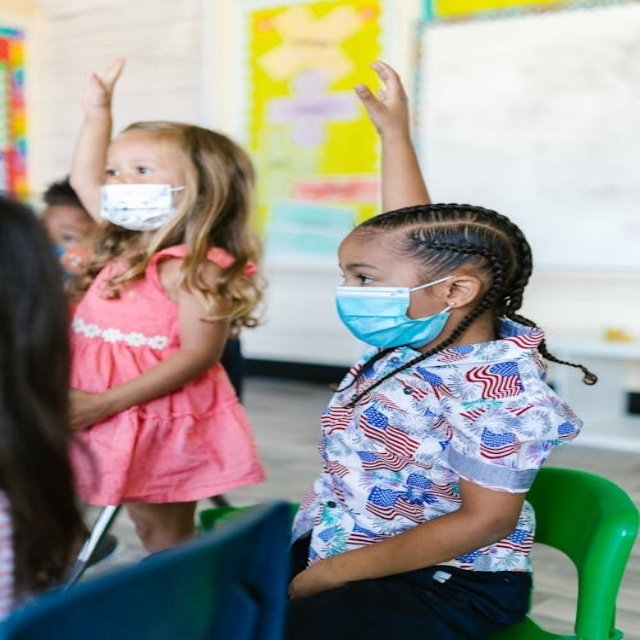Mascara: (334, 274, 460, 349), (96, 183, 187, 231), (53, 246, 89, 283)
Sin_gafas: (335, 253, 412, 287), (102, 155, 173, 182)
Sin_guantes: (347, 57, 415, 133), (81, 54, 131, 112)
